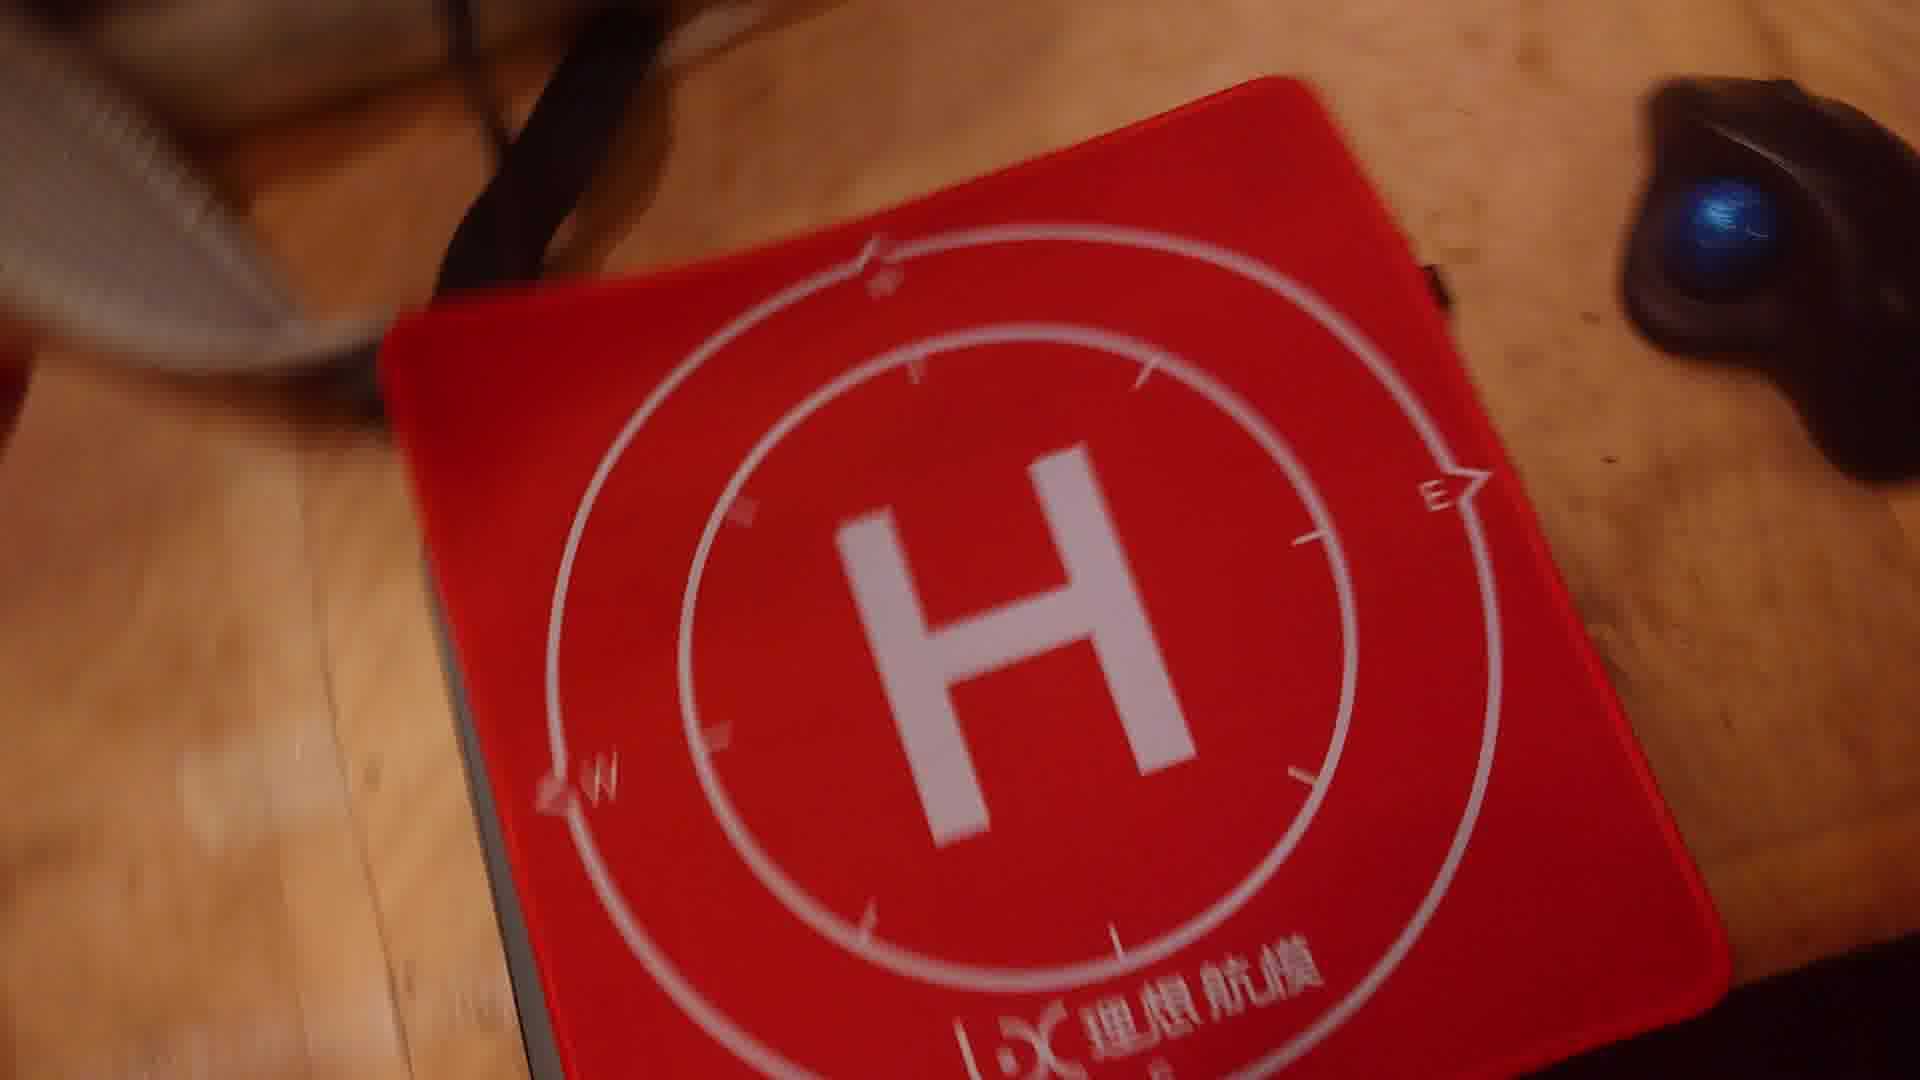H: (836, 442, 1201, 843)
